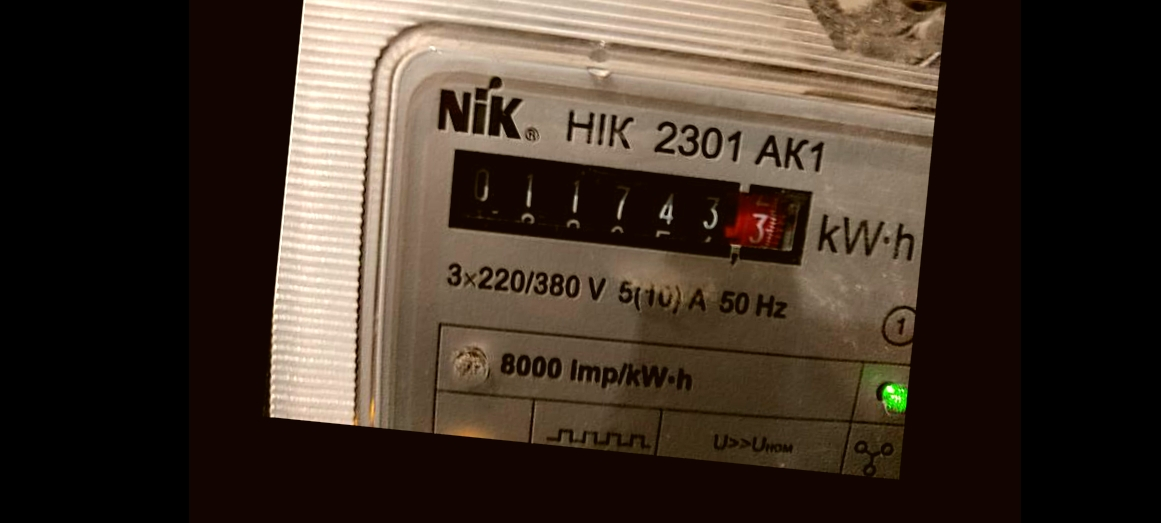0: (470, 165, 496, 206), (520, 168, 542, 211)
1: (566, 174, 586, 217)
3: (700, 190, 724, 235), (747, 208, 771, 248)
4: (656, 186, 679, 228)
7: (609, 178, 636, 224)
screen: (427, 134, 824, 279)
